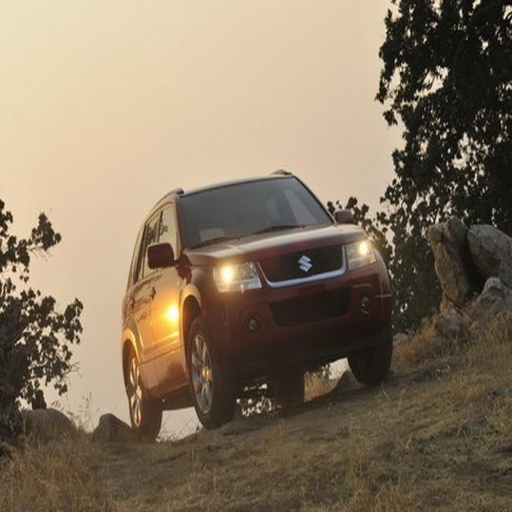back_bumper: (309, 265, 395, 322)
front_glass: (197, 185, 261, 231)
trunk: (226, 230, 356, 301)
